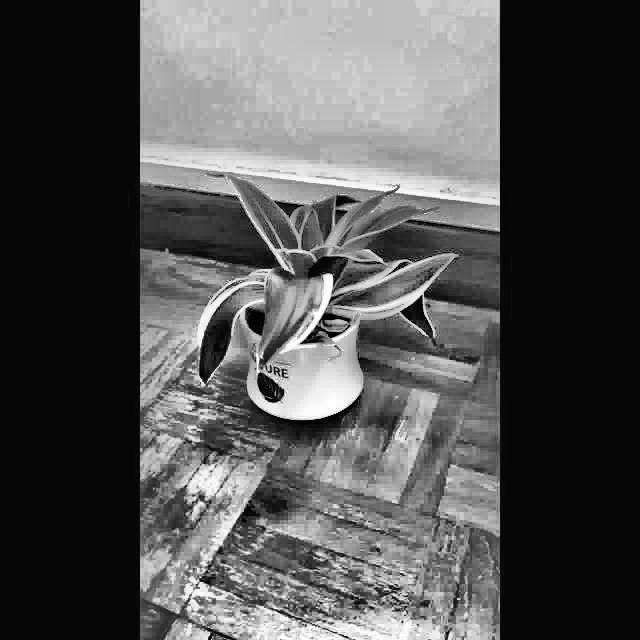plants: (192, 159, 462, 424)
